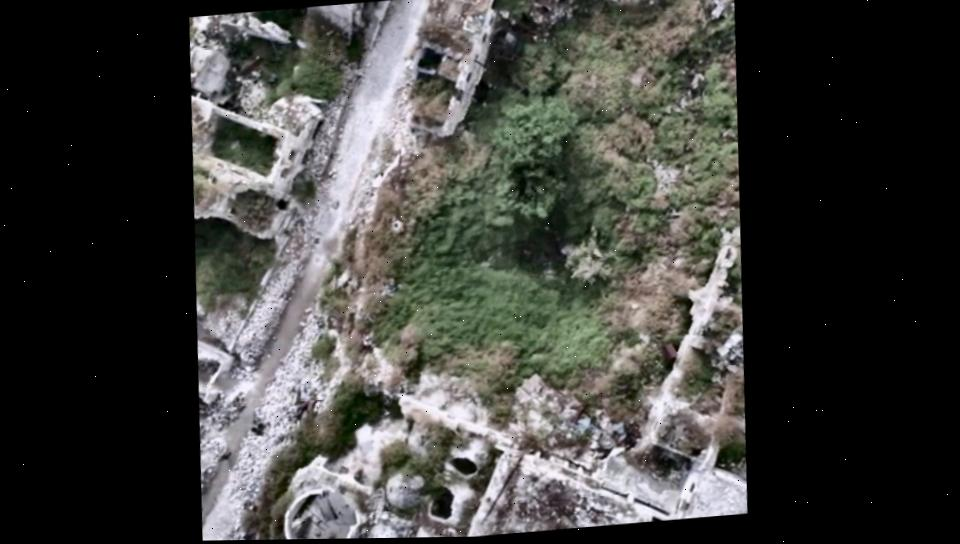kapali: (199, 202, 349, 541)
